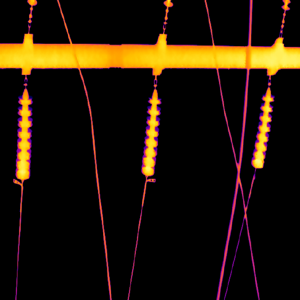insulator: (251, 86, 272, 165), (142, 89, 159, 175), (15, 89, 31, 178)
